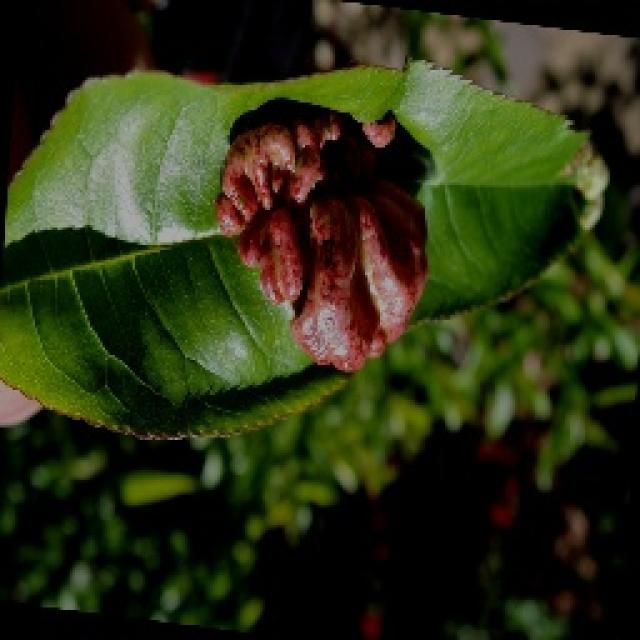peach_leaf_curl: (212, 95, 430, 373)
